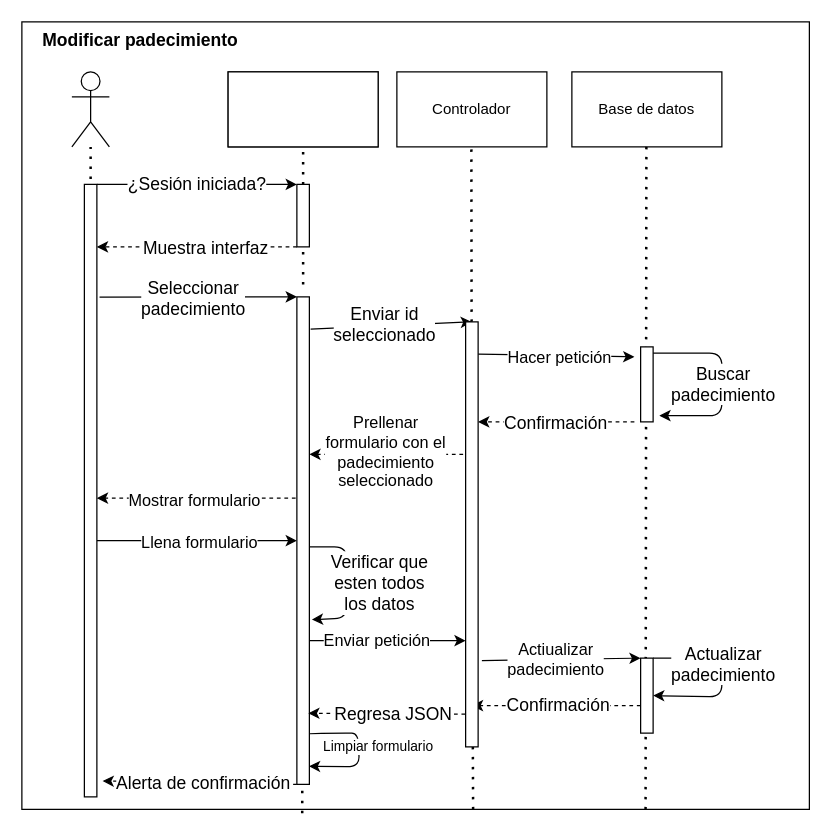
Image size: 831x838. Some labels were removed from this diagram. The centre of each missing label's shape, as x and y in pixels:
"Doctor" belongs at point (90, 109).
"Padecimiento (vista)" belongs at point (302, 109).
